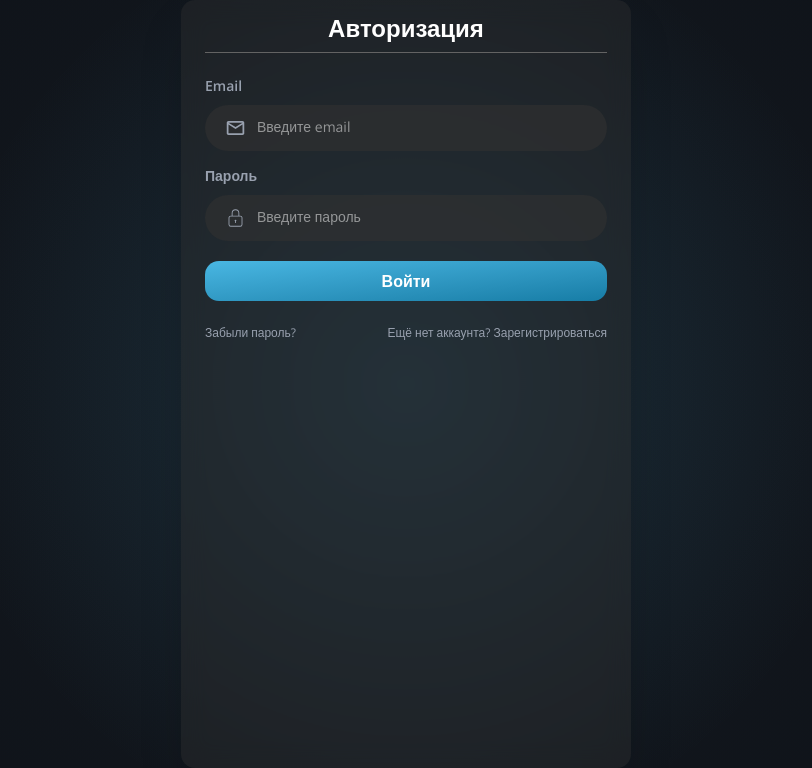
Test case: Login form › Should show validation errors for empty fields
The image size is (812, 768).
Click the button with test id "login-button" at (406, 281), box 205,261 -> 607,301
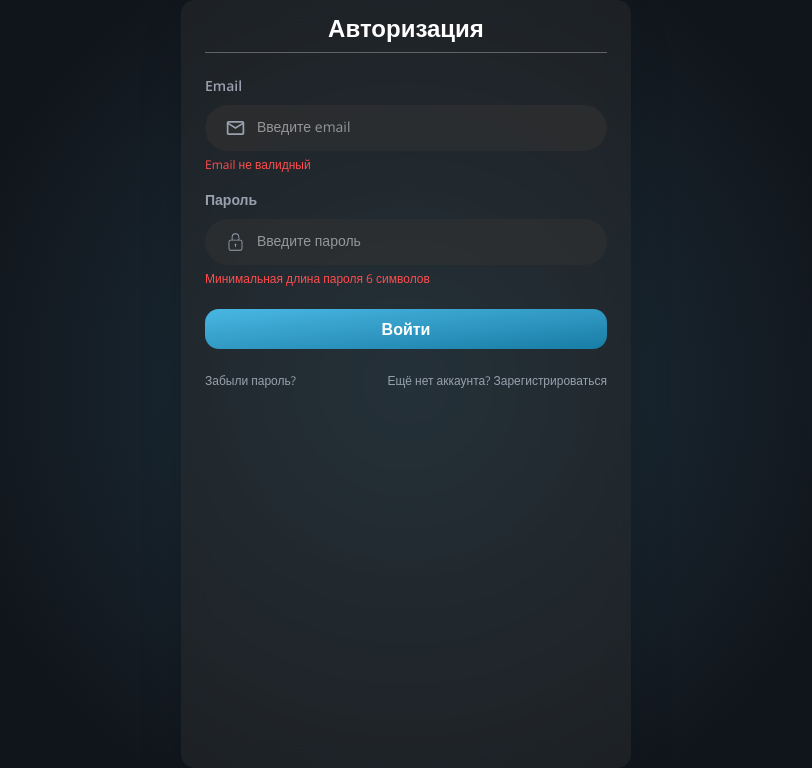
Expected: the text "Email не валидный" is shown, 205,156 -> 311,173
Expected: the text "Минимальная длина пароля 6 символов" is shown, 205,270 -> 430,287
